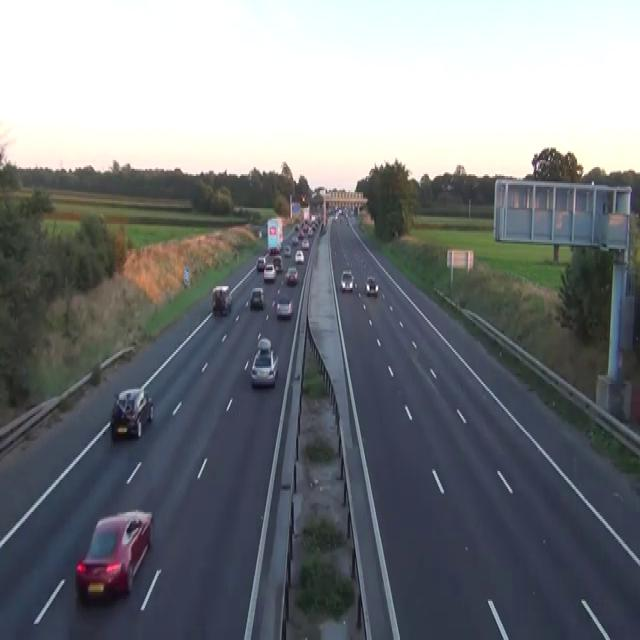Car: (75, 508, 153, 604), (110, 386, 153, 439), (250, 342, 278, 388), (211, 284, 232, 314), (276, 295, 293, 318), (250, 286, 264, 310), (340, 270, 353, 292), (263, 263, 276, 283), (257, 336, 271, 354), (365, 276, 378, 295), (285, 266, 298, 284), (273, 254, 282, 272), (256, 256, 266, 270), (294, 249, 304, 263), (283, 244, 291, 256), (320, 222, 327, 235), (301, 238, 309, 249), (270, 246, 279, 254), (291, 235, 298, 245), (446, 182, 454, 190), (300, 194, 306, 204), (303, 217, 309, 226), (298, 230, 304, 238), (307, 226, 313, 234), (294, 224, 299, 231), (333, 213, 338, 220), (441, 183, 446, 190), (345, 218, 349, 226)
Truck: (267, 217, 283, 252)
